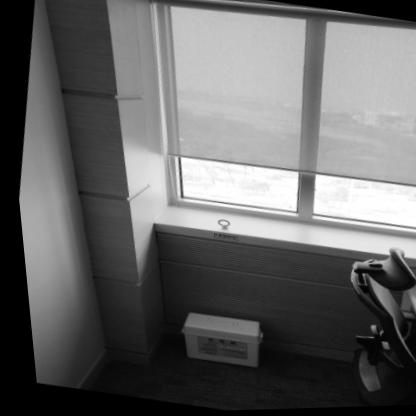DDL: (166, 308, 260, 371)
